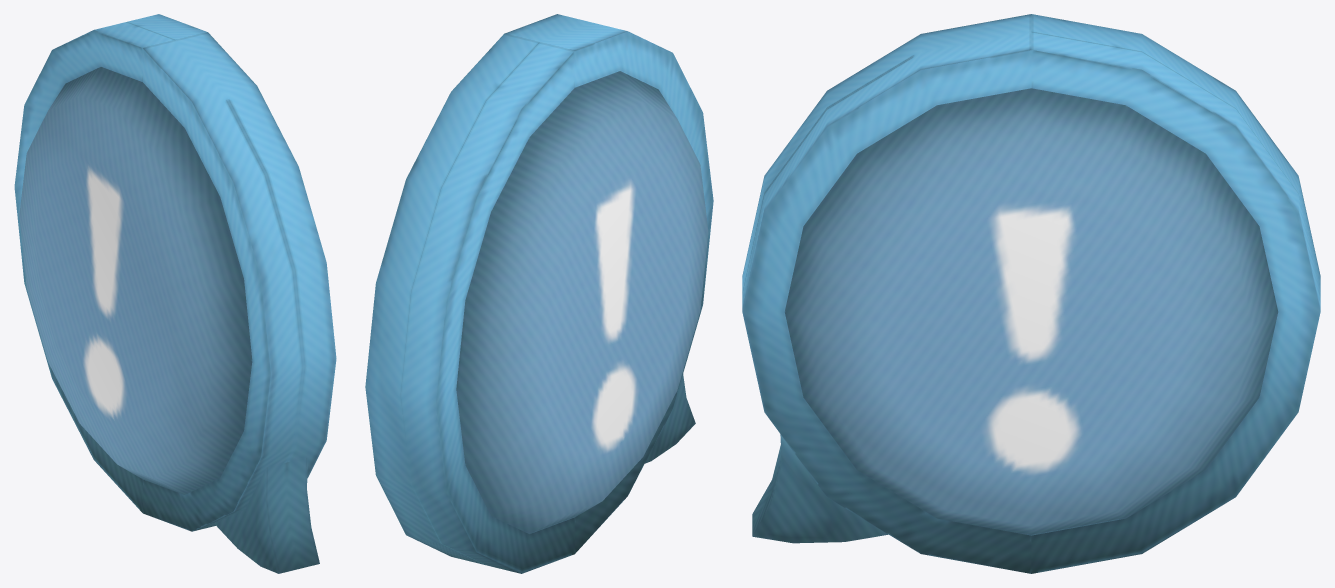
File: info_bubble.glb
The picture shows the model from 3 angles, left to right: view 1: azimuth 30°, elevation 25°; view 2: azimuth 150°, elevation 25°; view 3: azimuth 270°, elevation 25°; orthographic projection. The views are drawn at different scales.
Parts seen in each view (by area): view 1: info_bubble; view 2: info_bubble; view 3: info_bubble.
Part boxes in pixels (x1=…): info_bubble: x1=14, y1=14, x2=336, y2=573; info_bubble: x1=365, y1=14, x2=713, y2=573; info_bubble: x1=742, y1=14, x2=1320, y2=573.
Bounding box in the file's own units: 0.6315 × 2 × 2.
1 material, 1 textured.
